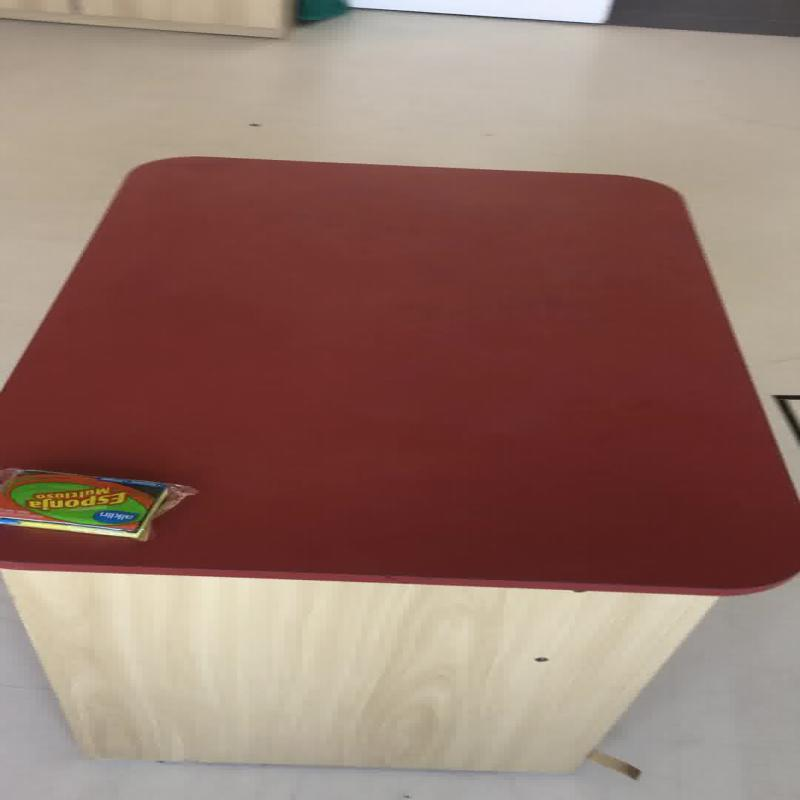sponge: (0, 465, 196, 542)
